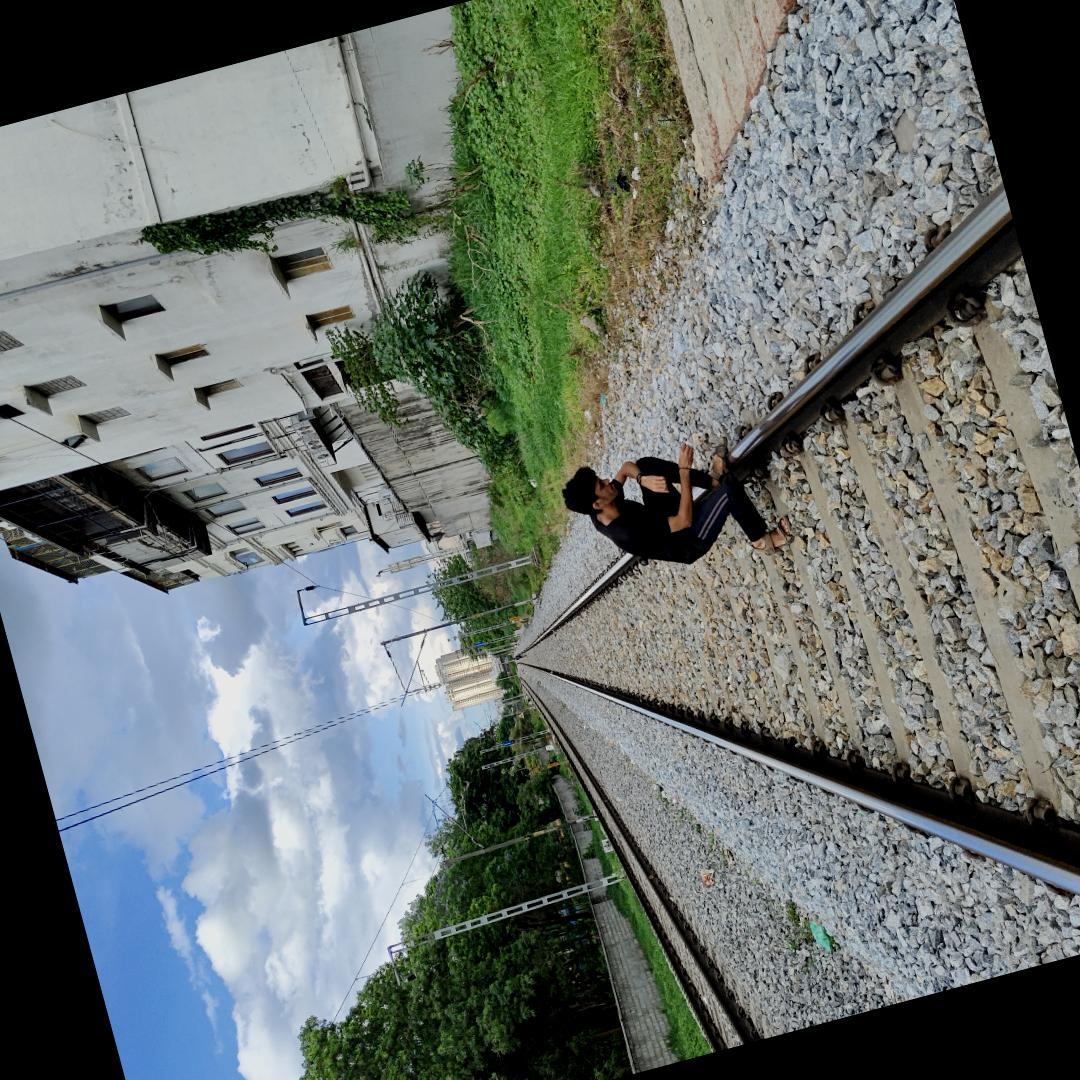sitting: (548, 399, 814, 607)
